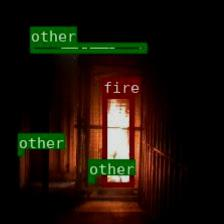fire: (102, 94, 133, 186)
